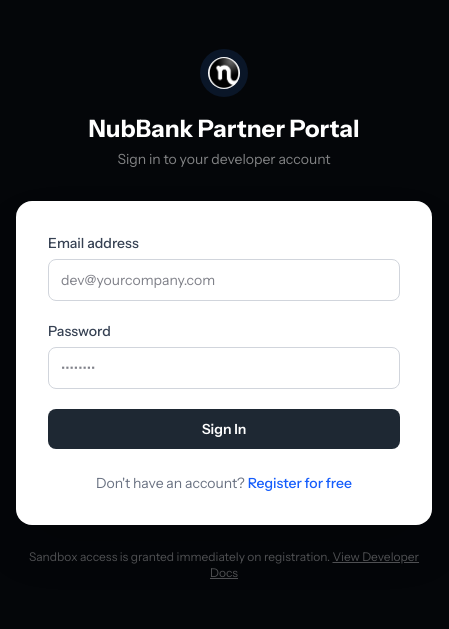
Test case: LoginPage › shows an error and does not navigate when login fails
Type "dev@x.com" into the field with placeholder "dev@yourcompany.com".
click(224, 280); type("dev@x.com")  # box top-left (48, 259), bottom-right (400, 301)
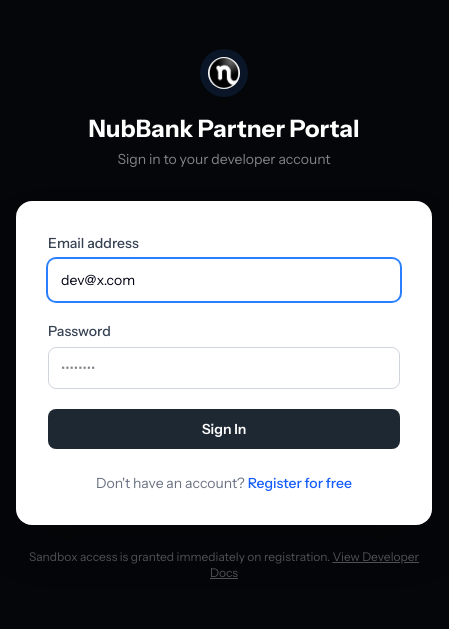
Type "wrong" into the password field with placeholder "••••••••".
click(224, 368); type("wrong")  # box top-left (48, 347), bottom-right (400, 389)
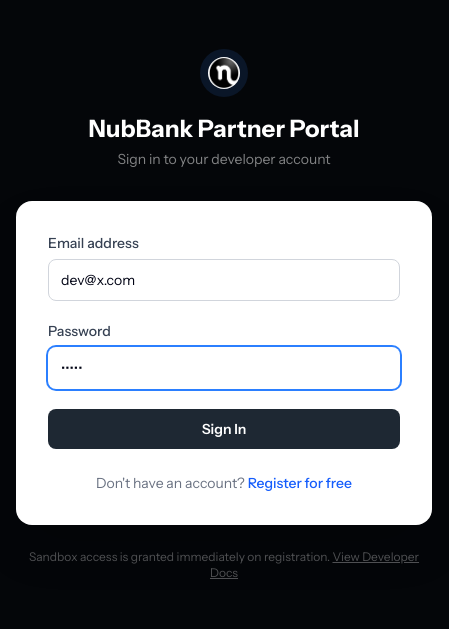
Click the button "Sign In".
click(224, 429)  # box top-left (48, 409), bottom-right (400, 449)
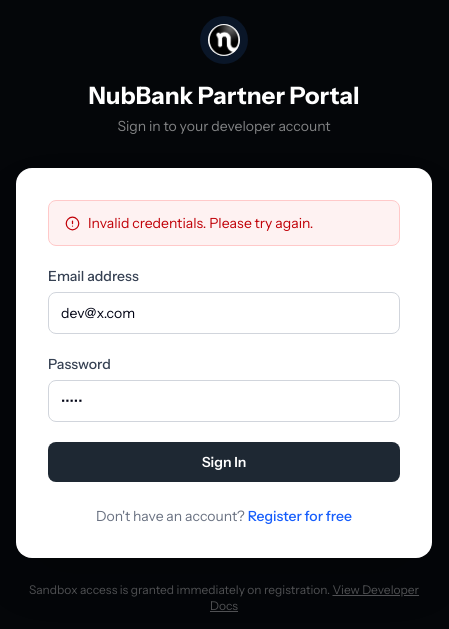
Expected: the text "Invalid credentials. Please try again." is shown, top-left (48, 200), bottom-right (400, 246)
